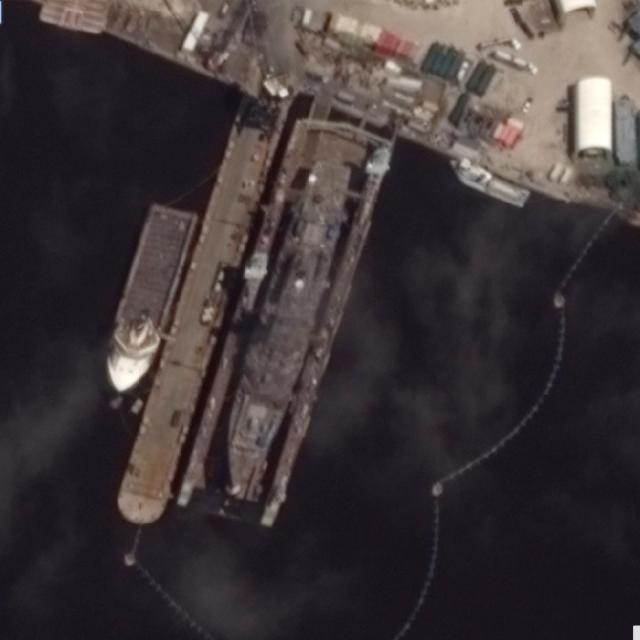Cargo: (92, 197, 201, 402)
Destroyer: (212, 153, 356, 500)
Dock: (111, 89, 288, 529)
Other Ship: (445, 158, 535, 211)
